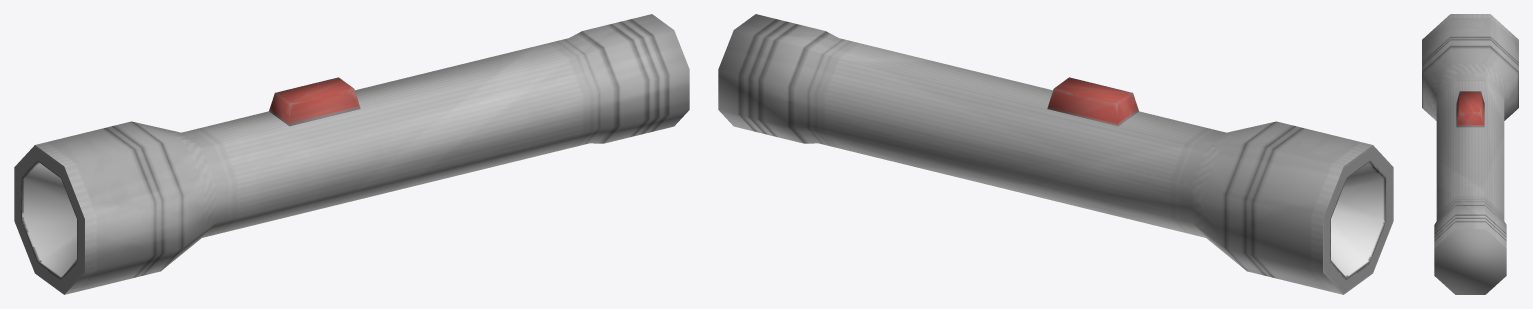
Rendered from flashlight.obj.
3 renders of one model, left to right at view 1: azimuth 30°, elevation 25°; view 2: azimuth 150°, elevation 25°; view 3: azimuth 270°, elevation 25°, orthographic. The views are drawn at different scales.
Parts seen in each view (by area): view 1: Flashlight; view 2: Flashlight; view 3: Flashlight.
Boxes of the visible parts, x1,y1,x2,y2 form: Flashlight: (14,14,689,294); Flashlight: (718,14,1393,294); Flashlight: (1422,14,1518,294).
Size of the model in its own units: 0.6575 by 0.1319 by 0.1316.
